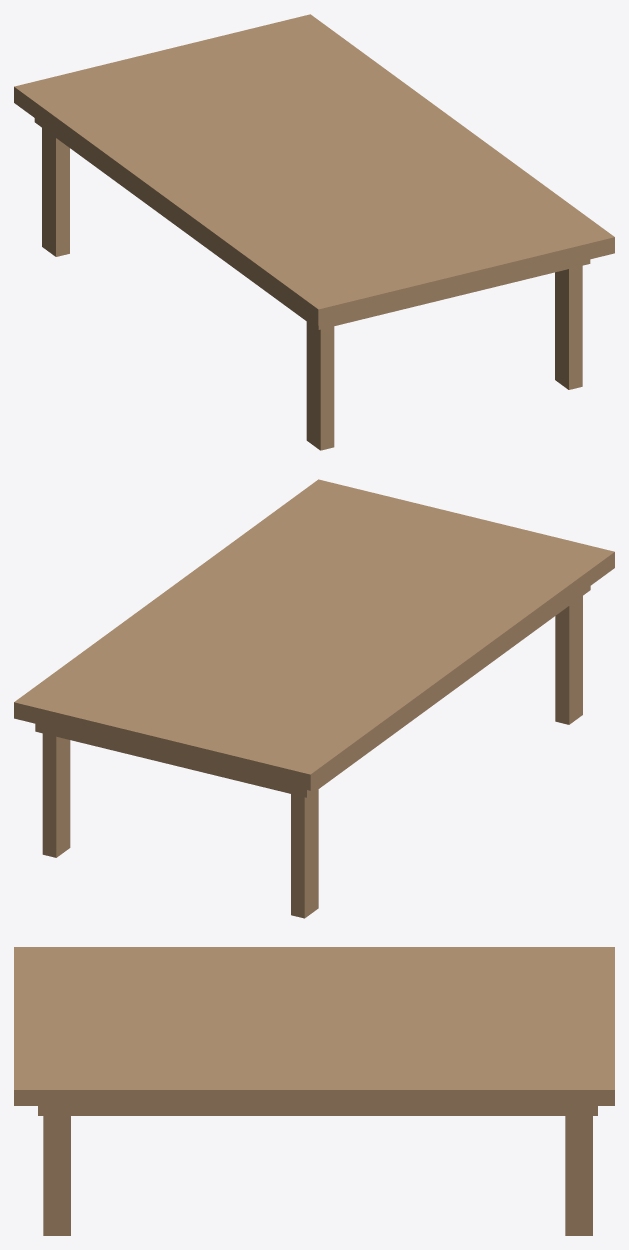
Rendered from mesa_centro.obj.
The picture shows the model from 3 angles, top to bottom: view 1: azimuth 30°, elevation 25°; view 2: azimuth 150°, elevation 25°; view 3: azimuth 270°, elevation 25°; orthographic projection.
Visible parts, largest first — view 1: group1 Mesh polySurface1, group1 Mesh polySurface4, group1 Mesh polySurface5, polySurface2 group1 Mesh, group1 Mesh polySurface8, group1 Mesh polySurface6; view 2: group1 Mesh polySurface1, group1 Mesh polySurface3, polySurface2 group1 Mesh, group1 Mesh polySurface4, group1 Mesh polySurface9, group1 Mesh polySurface6; view 3: group1 Mesh polySurface1, group1 Mesh polySurface7, group1 Mesh polySurface3, group1 Mesh polySurface5.
Part boxes in pixels (left/top/right/bottom): group1 Mesh polySurface1: left=14, top=14, right=614, bottom=325; group1 Mesh polySurface4: left=306, top=322, right=334, bottom=450; group1 Mesh polySurface5: left=555, top=265, right=582, bottom=389; polySurface2 group1 Mesh: left=42, top=128, right=69, bottom=256; group1 Mesh polySurface8: left=316, top=259, right=590, bottom=329; group1 Mesh polySurface6: left=37, top=120, right=315, bottom=327; group1 Mesh polySurface1: left=14, top=479, right=614, bottom=790; group1 Mesh polySurface3: left=42, top=733, right=70, bottom=857; polySurface2 group1 Mesh: left=291, top=789, right=318, bottom=918; group1 Mesh polySurface4: left=555, top=596, right=582, bottom=724; group1 Mesh polySurface9: left=35, top=723, right=309, bottom=797; group1 Mesh polySurface6: left=309, top=588, right=587, bottom=795; group1 Mesh polySurface1: left=14, top=947, right=614, bottom=1105; group1 Mesh polySurface7: left=43, top=1106, right=592, bottom=1115; group1 Mesh polySurface3: left=565, top=1116, right=592, bottom=1235; group1 Mesh polySurface5: left=43, top=1116, right=70, bottom=1235.
Bounding box in the file's own units: 1.12 × 0.5664 × 2.
1 material, 1 textured.
